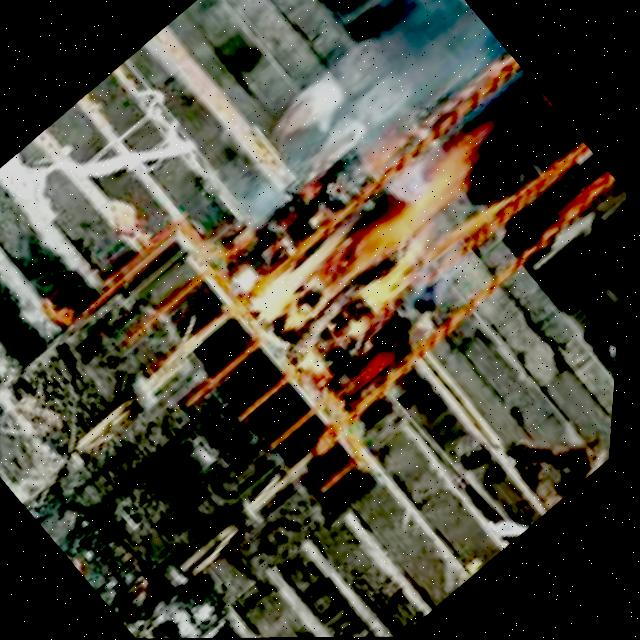Fire: (223, 101, 528, 384)
